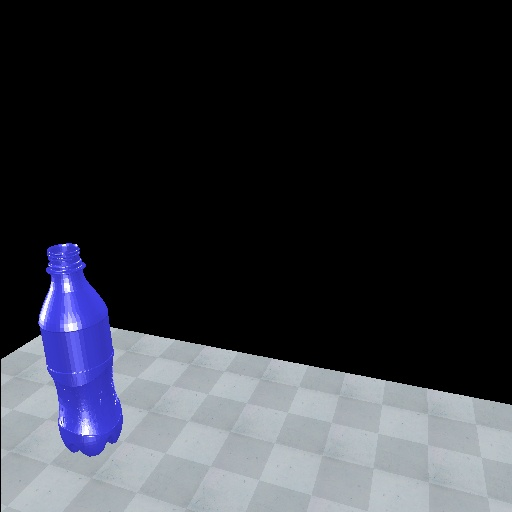bottle: (33, 243, 127, 459)
